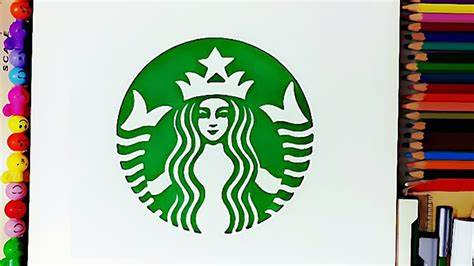starbucks Originale: (114, 33, 316, 235)
